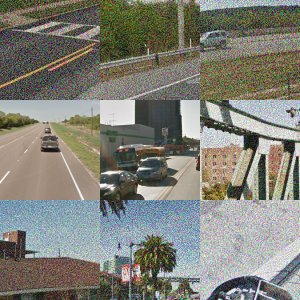公車: (1, 47, 96, 95), (135, 109, 178, 160)
汽車: (18, 201, 96, 261), (128, 33, 173, 57)
行人穿越道: (110, 170, 197, 200)
